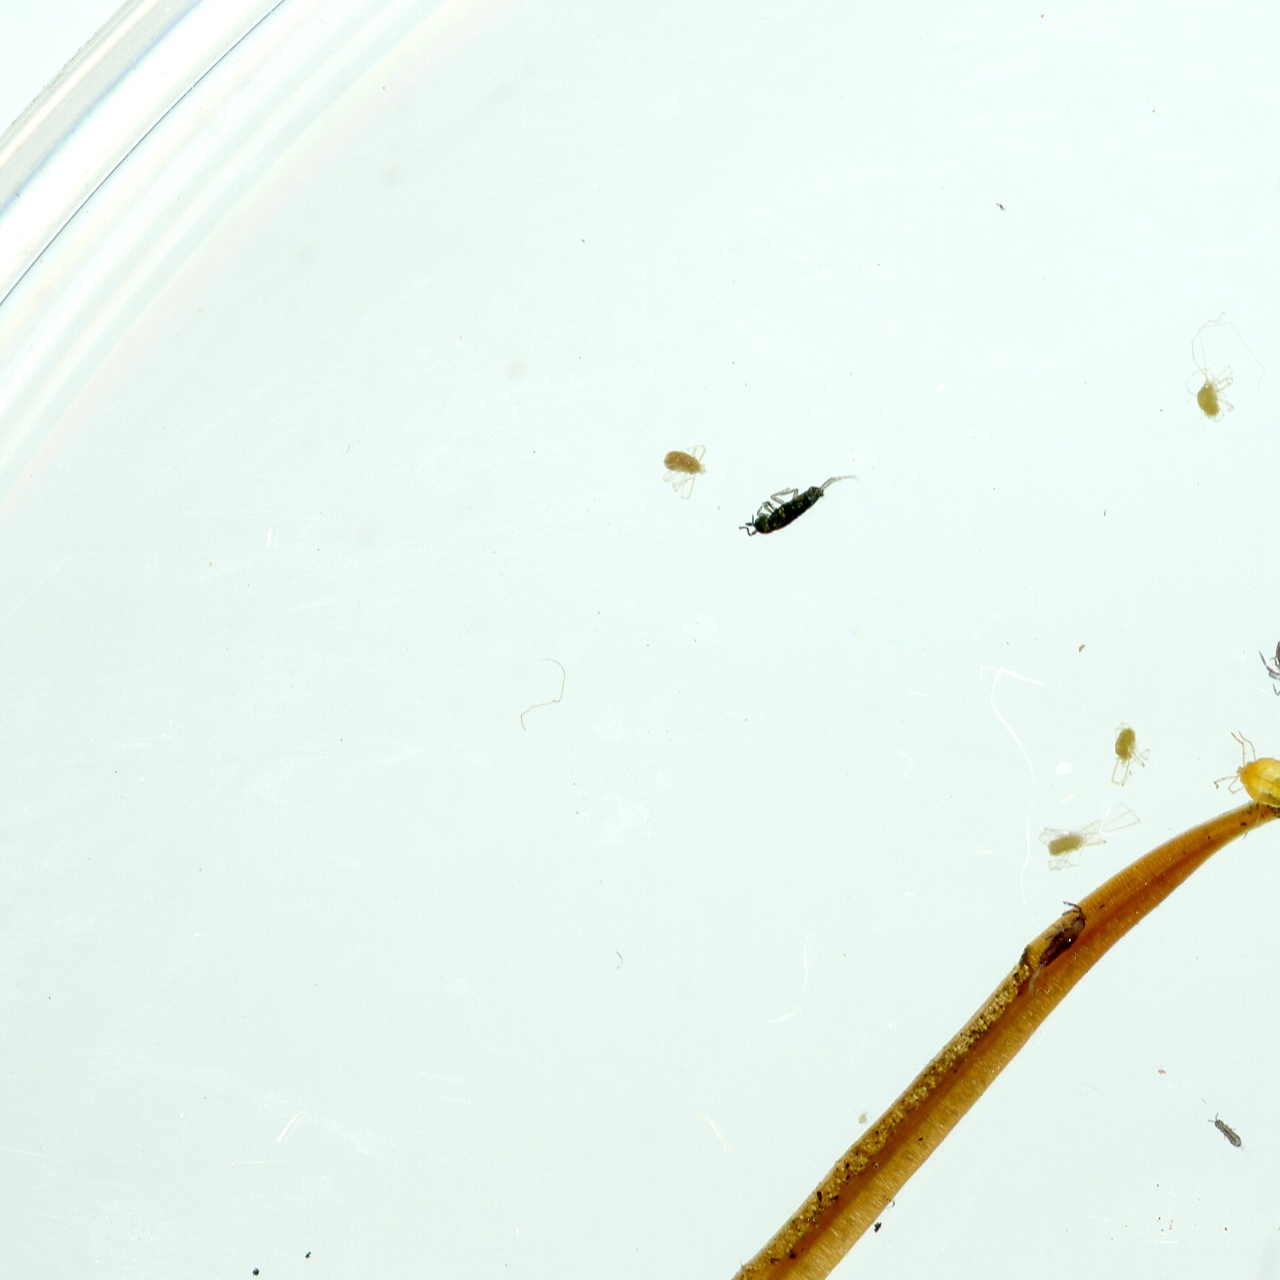arthropod: (1182, 310, 1266, 425), (739, 473, 857, 540), (1038, 801, 1142, 873), (1213, 729, 1280, 840), (1108, 720, 1157, 788), (1257, 600, 1280, 729), (660, 443, 708, 499), (1207, 1112, 1247, 1153)
